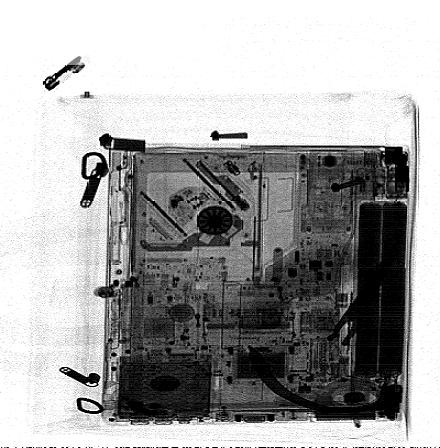Scissors: (317, 242, 403, 348)
